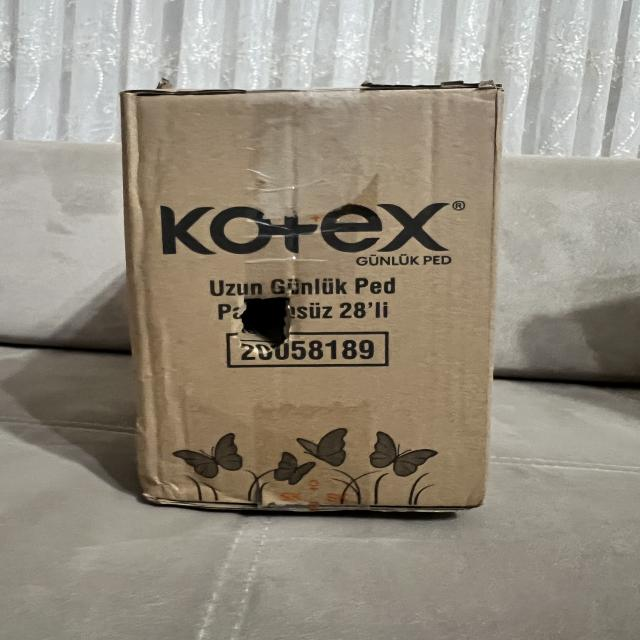damaged: (119, 79, 498, 517), (222, 280, 300, 362)
